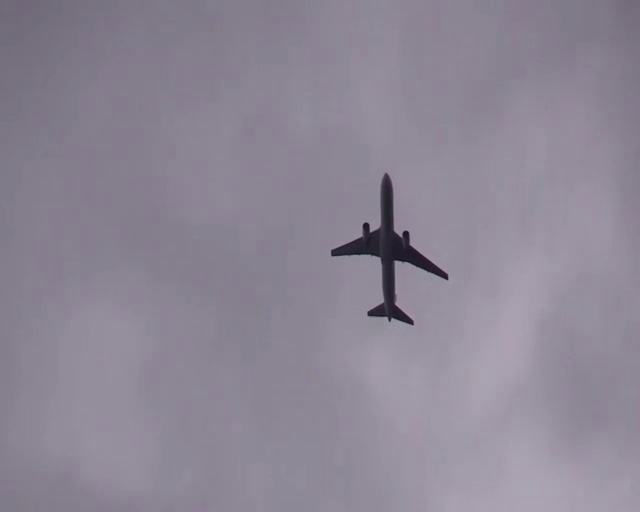AIRPLANE: (330, 170, 449, 325)
